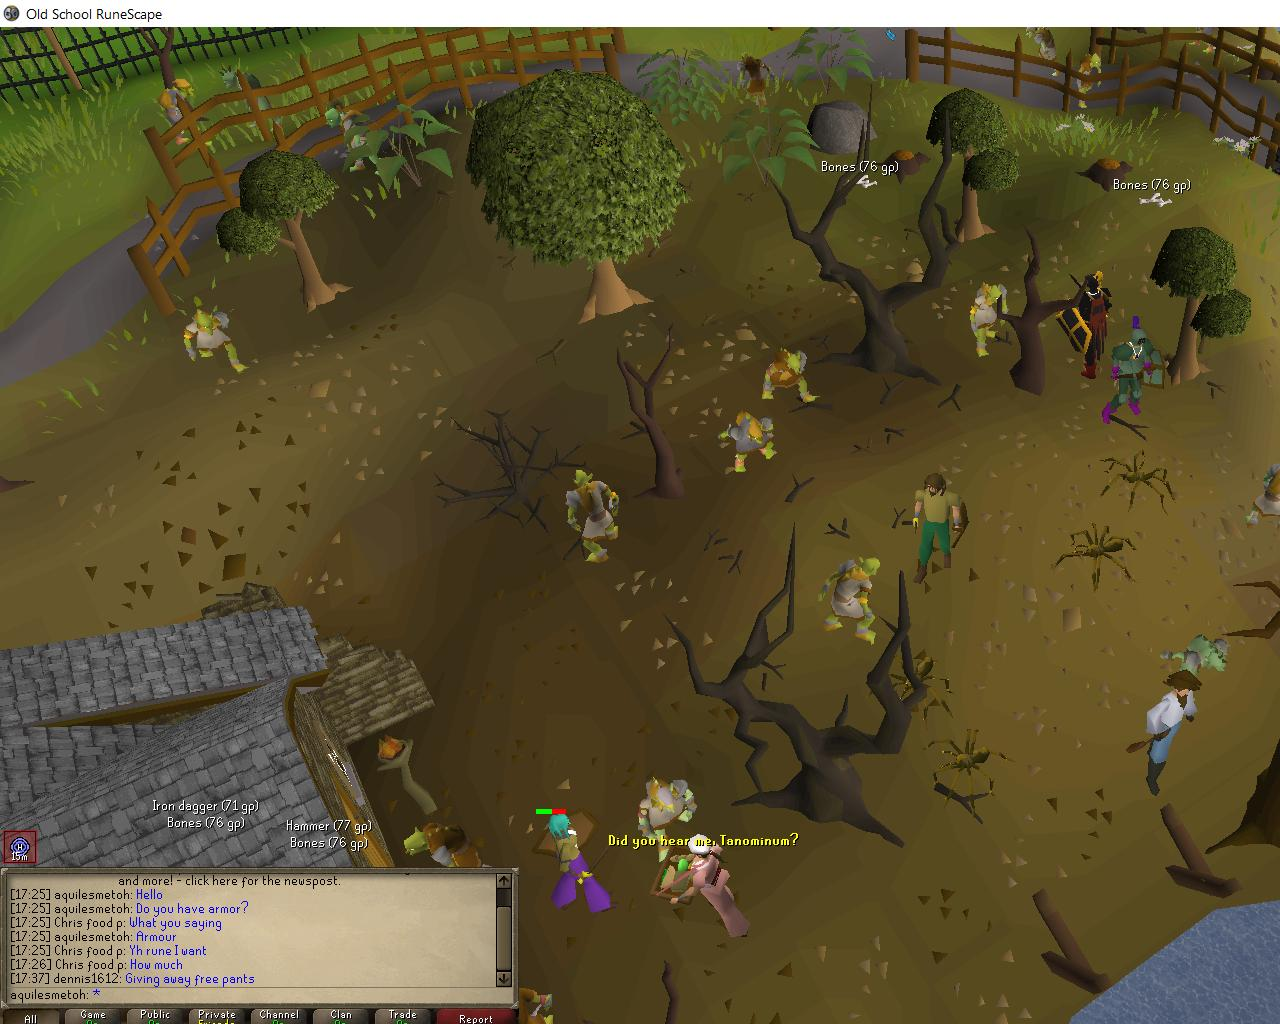Goblin: (627, 770, 720, 870), (559, 469, 632, 571), (1153, 624, 1250, 697), (321, 99, 395, 181), (174, 303, 252, 379), (711, 409, 794, 478), (823, 552, 884, 647), (144, 75, 218, 153), (753, 342, 832, 413), (222, 61, 287, 133), (967, 276, 1015, 362), (728, 52, 787, 104), (1066, 52, 1115, 112), (1015, 29, 1062, 80)
